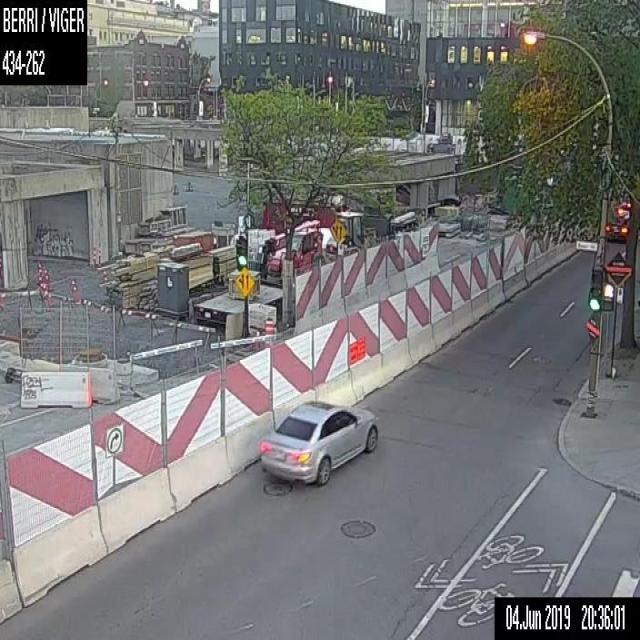construction: (0, 110, 608, 626), (263, 316, 274, 346)
vehicle: (258, 398, 378, 490), (603, 216, 630, 242)
